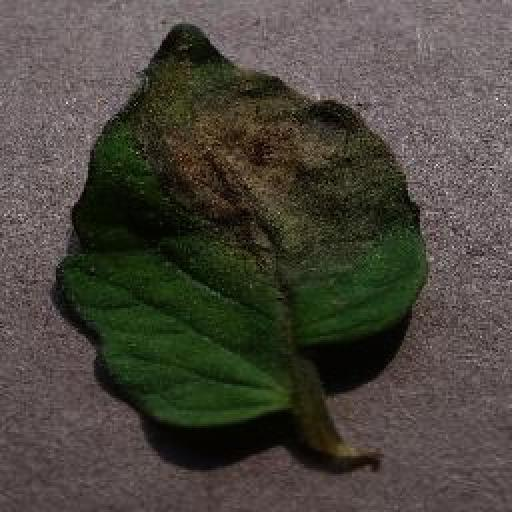disease_tomato: (55, 14, 429, 428)
